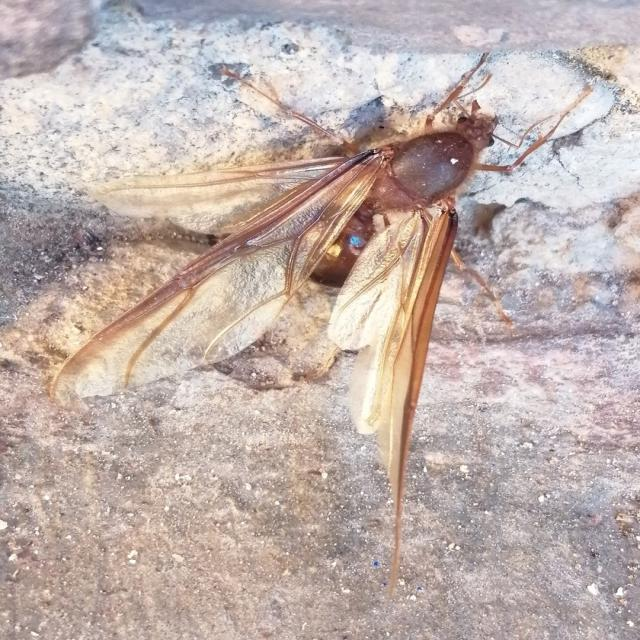Alive-Male-Alate: (49, 52, 594, 600)
